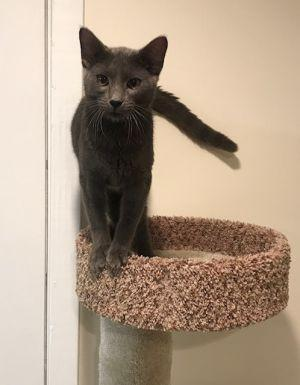rblue: (67, 13, 180, 135)
